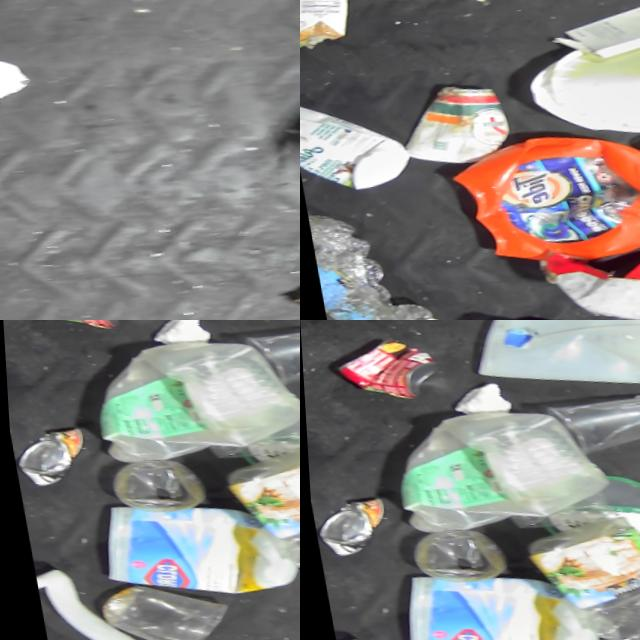can: (412, 74, 520, 165), (336, 329, 448, 408), (5, 416, 85, 483), (306, 486, 386, 553), (34, 320, 146, 338)
milk_jug: (368, 387, 609, 544), (67, 320, 300, 473), (463, 320, 640, 398)
non_white_jug: (453, 117, 640, 272), (106, 486, 300, 607), (407, 556, 601, 640)
plastic_bottle: (531, 513, 640, 640), (230, 443, 300, 589)
